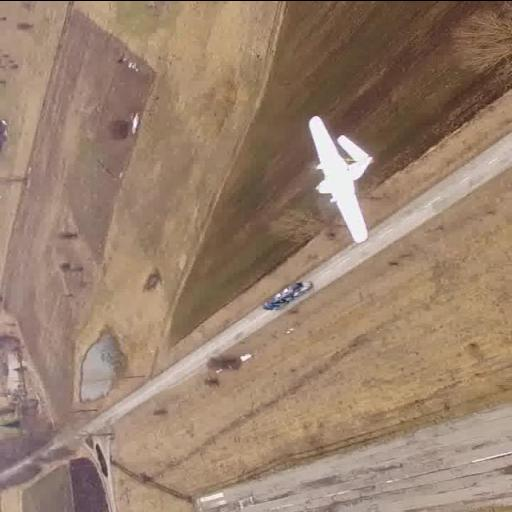uav: (298, 112, 388, 246)
